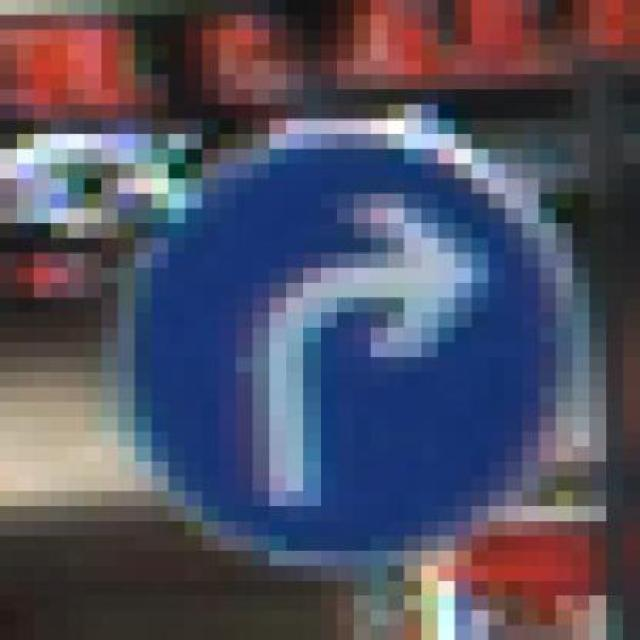Turn right ahead: (101, 119, 573, 581)
